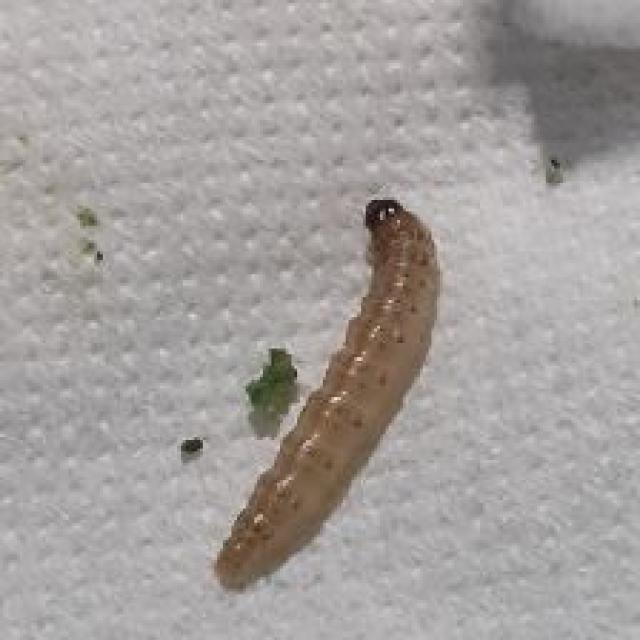white mucus: (200, 176, 472, 590)
